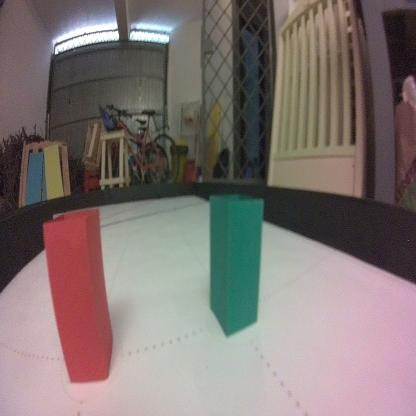green: (207, 194, 265, 341)
red: (42, 211, 114, 386)
